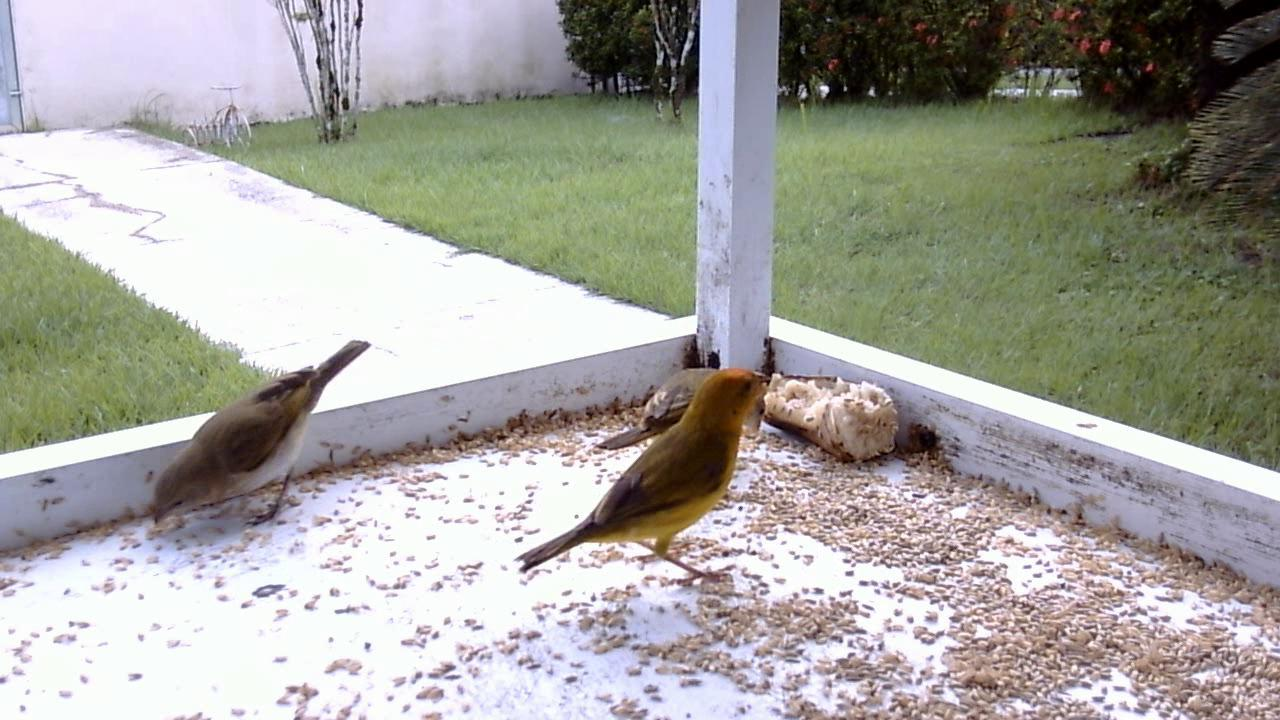canario_do_amazonas: (510, 365, 777, 590), (145, 332, 386, 537)
